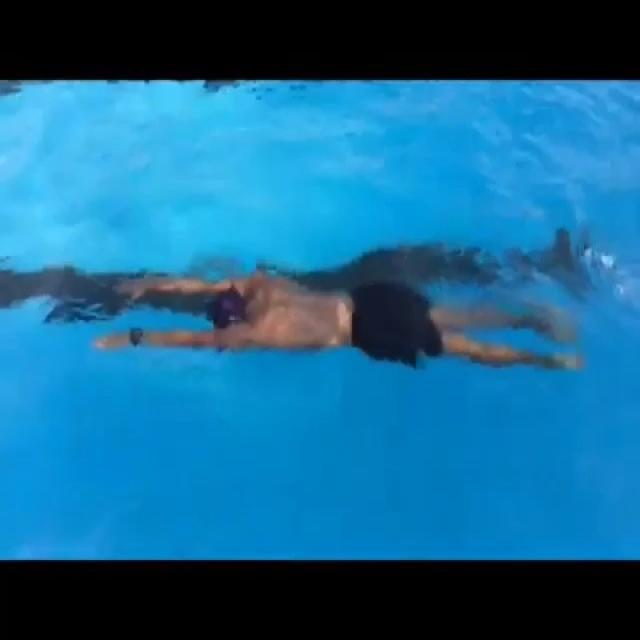Swimming: (85, 262, 598, 402)
